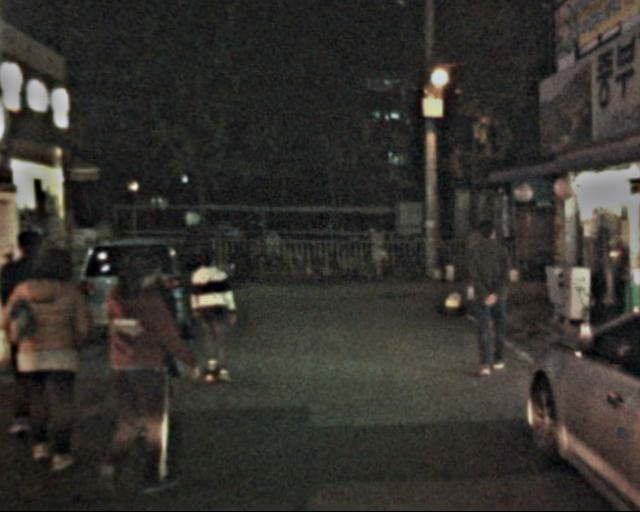person: (97, 245, 190, 497), (8, 238, 107, 473), (105, 238, 190, 460), (461, 212, 520, 380), (188, 236, 240, 387)
